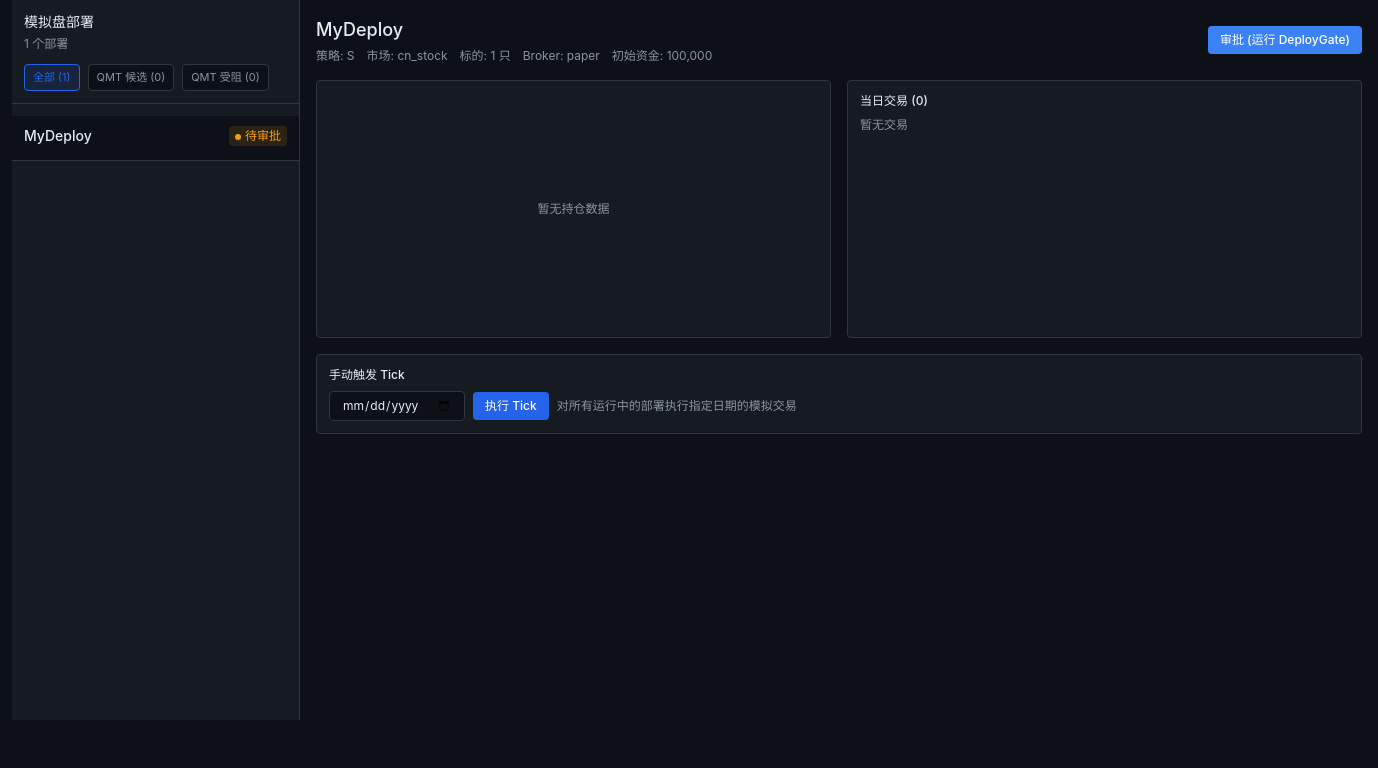
PaperTradingPage - DeployGate 422 error object extraction (V2.17 regression) › 422 with missing message falls back to verdict.summary
The width and height of the screenshot is (1378, 768).
What coordinates should you click on to do the following:
click the button "审批 (运行 DeployGate)"
I would click on:
 (1285, 40)
Its box is [1208, 26, 1362, 54].
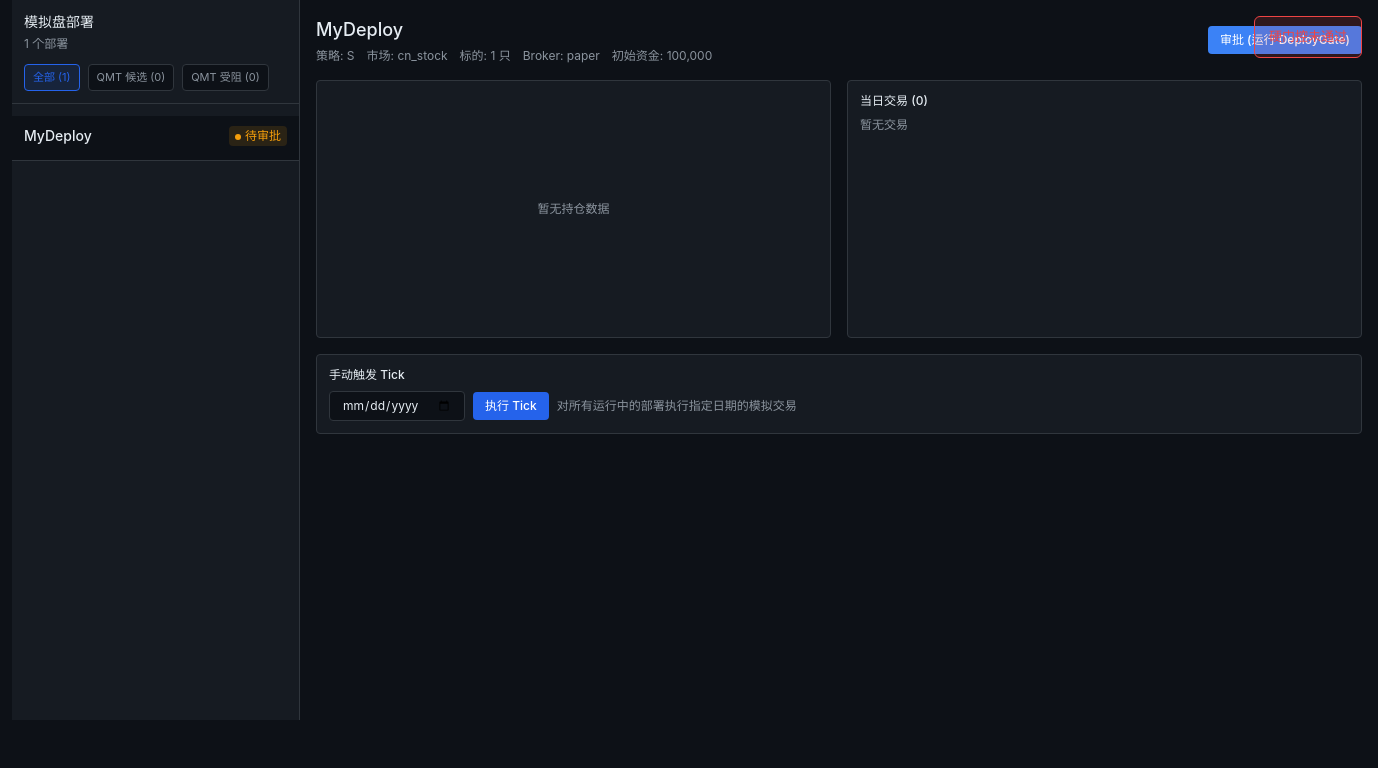
Now the text "硬门控未通过" is shown, box [1254, 16, 1362, 58]
